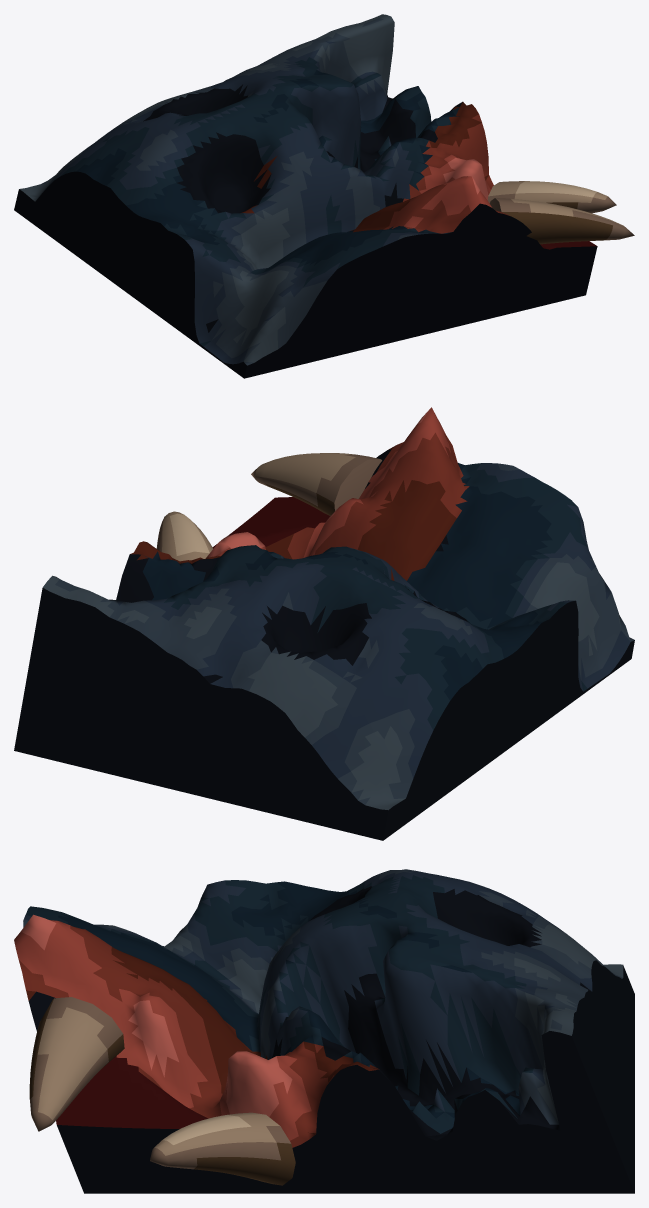
The model's file is gyges_maw_127.glb.
3 renders of one model, top to bottom at view 1: azimuth 30°, elevation 25°; view 2: azimuth 150°, elevation 25°; view 3: azimuth 270°, elevation 25°, orthographic. The views are drawn at different scales.
Parts seen in each view (by area): view 1: gyges_maw_127; view 2: gyges_maw_127; view 3: gyges_maw_127.
Part boxes in pixels (bbox=[...]): gyges_maw_127: bbox=[14, 14, 634, 378]; gyges_maw_127: bbox=[14, 407, 634, 840]; gyges_maw_127: bbox=[14, 869, 634, 1193].
Size of the model in its own units: 28.1 by 11.23 by 31.57.
